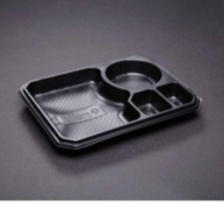plastic_box: (11, 48, 208, 162)
